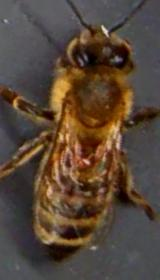varroa_mite: (64, 148, 92, 172)
